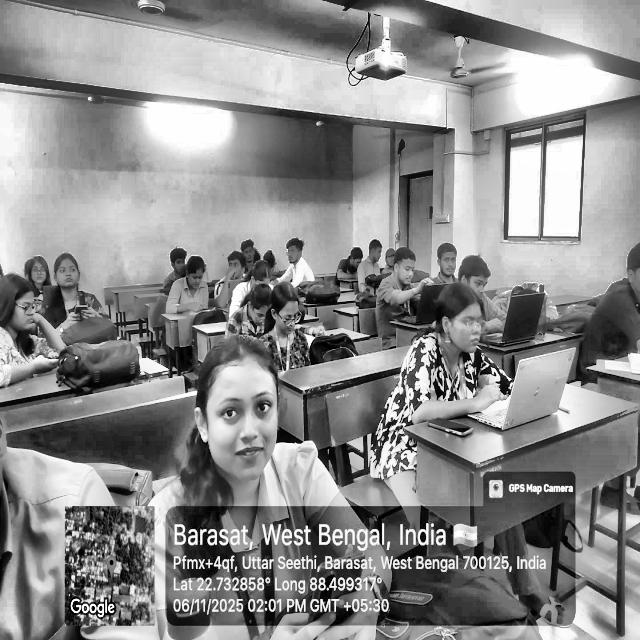Focus: (436, 281, 485, 354), (457, 249, 493, 302), (390, 249, 416, 286), (345, 245, 363, 271)
Not Focus: (193, 332, 285, 483), (0, 272, 37, 336), (272, 280, 300, 334), (54, 253, 82, 292), (249, 281, 271, 323), (184, 257, 207, 287), (30, 252, 49, 288), (436, 244, 456, 276), (226, 253, 247, 281), (285, 240, 304, 266), (169, 248, 187, 272), (241, 239, 256, 263), (368, 239, 382, 263), (386, 247, 395, 266)
